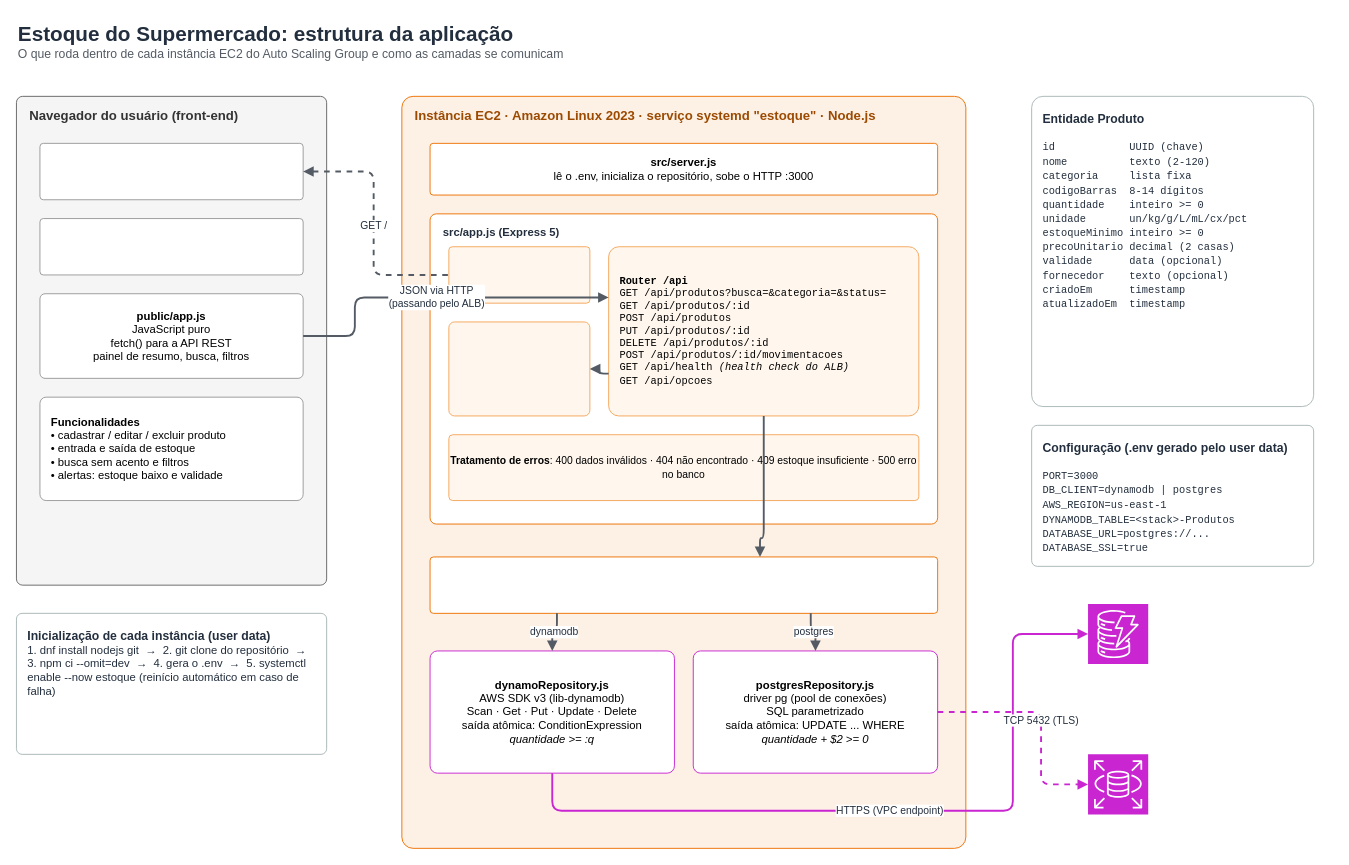
Image size: 1349x865. Some labels were removed from this diagram. The centre of each missing label's shape, as x and y in pixels:
"Amazon DynamoDB tabela Produtos" goes at point 1117,633.
"Amazon RDS PostgreSQL tabela produtos" goes at point 1117,784.
"express.static serve public/" goes at point 519,274.
"public/index.html tela, tabela, formulários (dialog)" goes at point 171,171.
"public/styles.css layout responsivo" goes at point 171,246.
"src/repositories/index.js escolhe a implementação pela variável DB_CLIENT" goes at point 683,584.
"src/validation.js valida e normaliza os campos erro 400 com mensagem por campo" goes at point 519,368.
